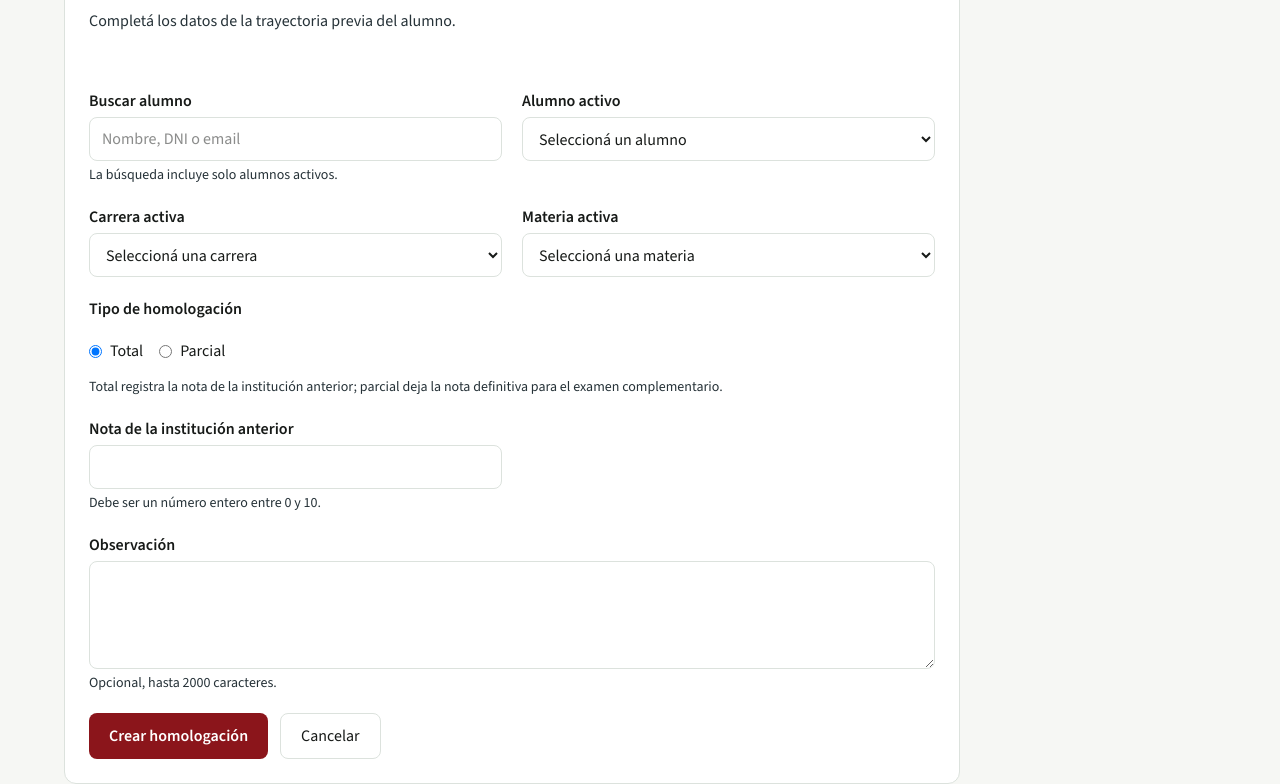
AdminHomologationsView › asocia el error de validación al primer control inválido y le devuelve el foco
The width and height of the screenshot is (1280, 784).
(page scrolled)
Click the button "Crear homologación": point(179, 736) x1=89 y1=713 x2=268 y2=759
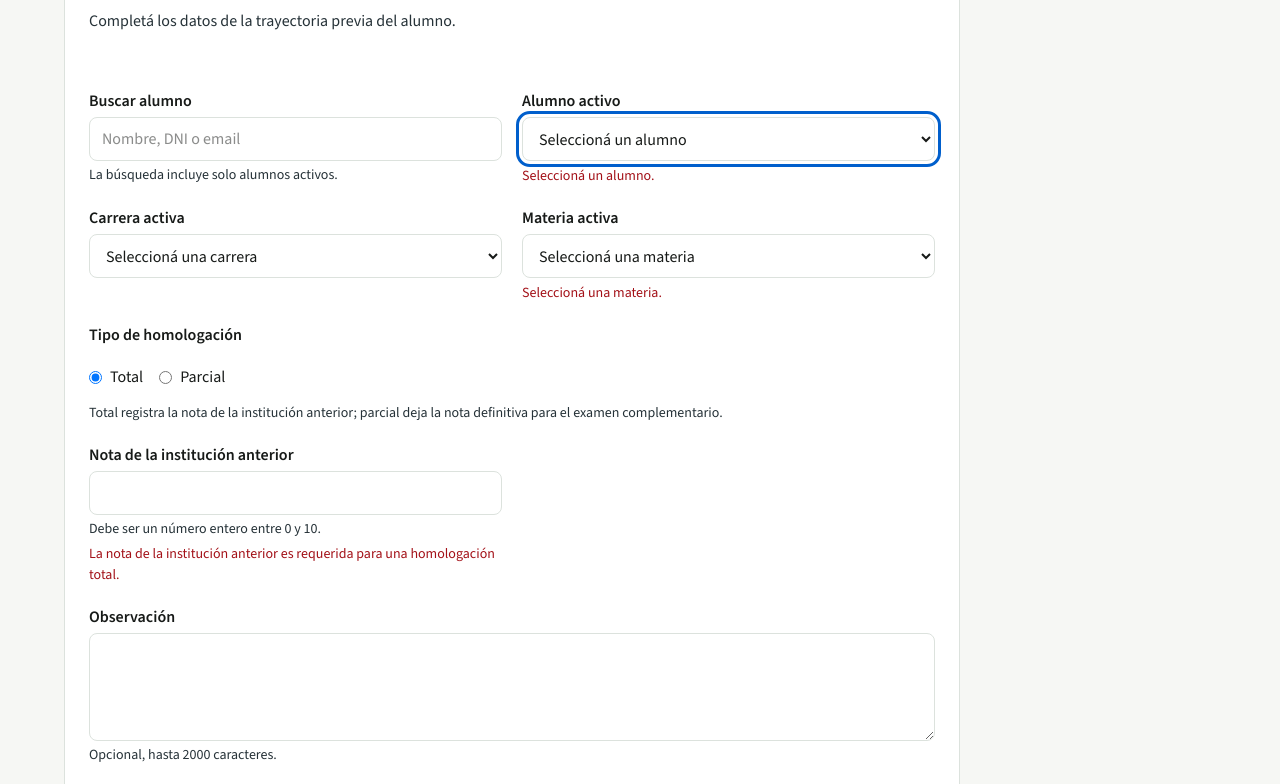
Expected: the text "Seleccioná un alumno." is shown, x1=522 y1=166 x2=654 y2=185
